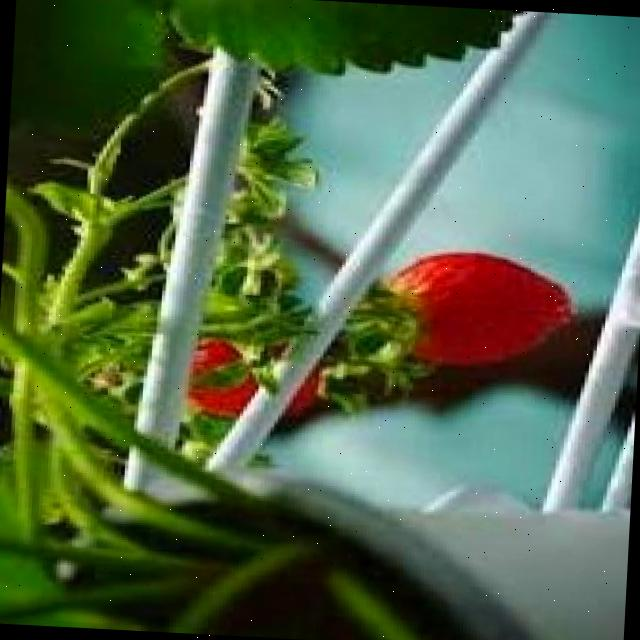strawberry: (388, 248, 578, 370)
